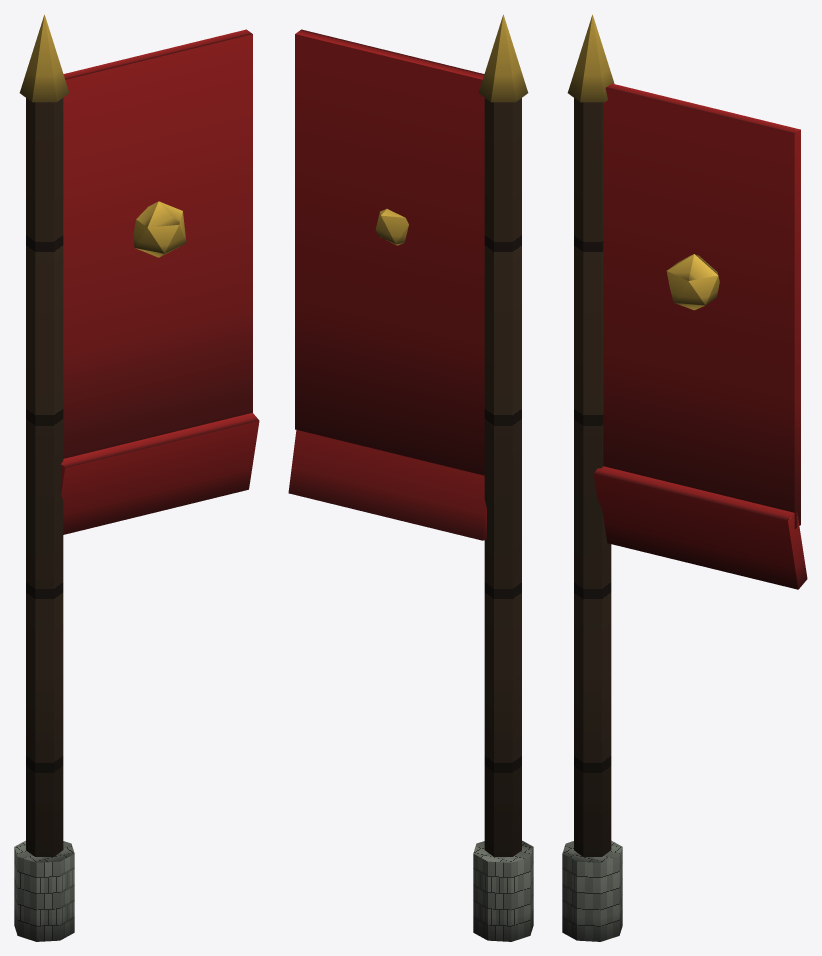
Rendered from banner_pole.gltf.
3 renders of one model, left to right at view 1: azimuth 30°, elevation 25°; view 2: azimuth 150°, elevation 25°; view 3: azimuth 330°, elevation 25°, orthographic.
Parts seen in each view (by area): view 1: banner_pole; view 2: banner_pole; view 3: banner_pole.
Boxes of the visible parts, box(x1,y1,x2,y2) form: banner_pole: box(14, 14, 259, 941); banner_pole: box(288, 14, 533, 941); banner_pole: box(562, 14, 807, 941).
Size of the model in its own units: 0.43 by 1.62 by 0.1125.
Materials: 1 (1 with a texture image).
